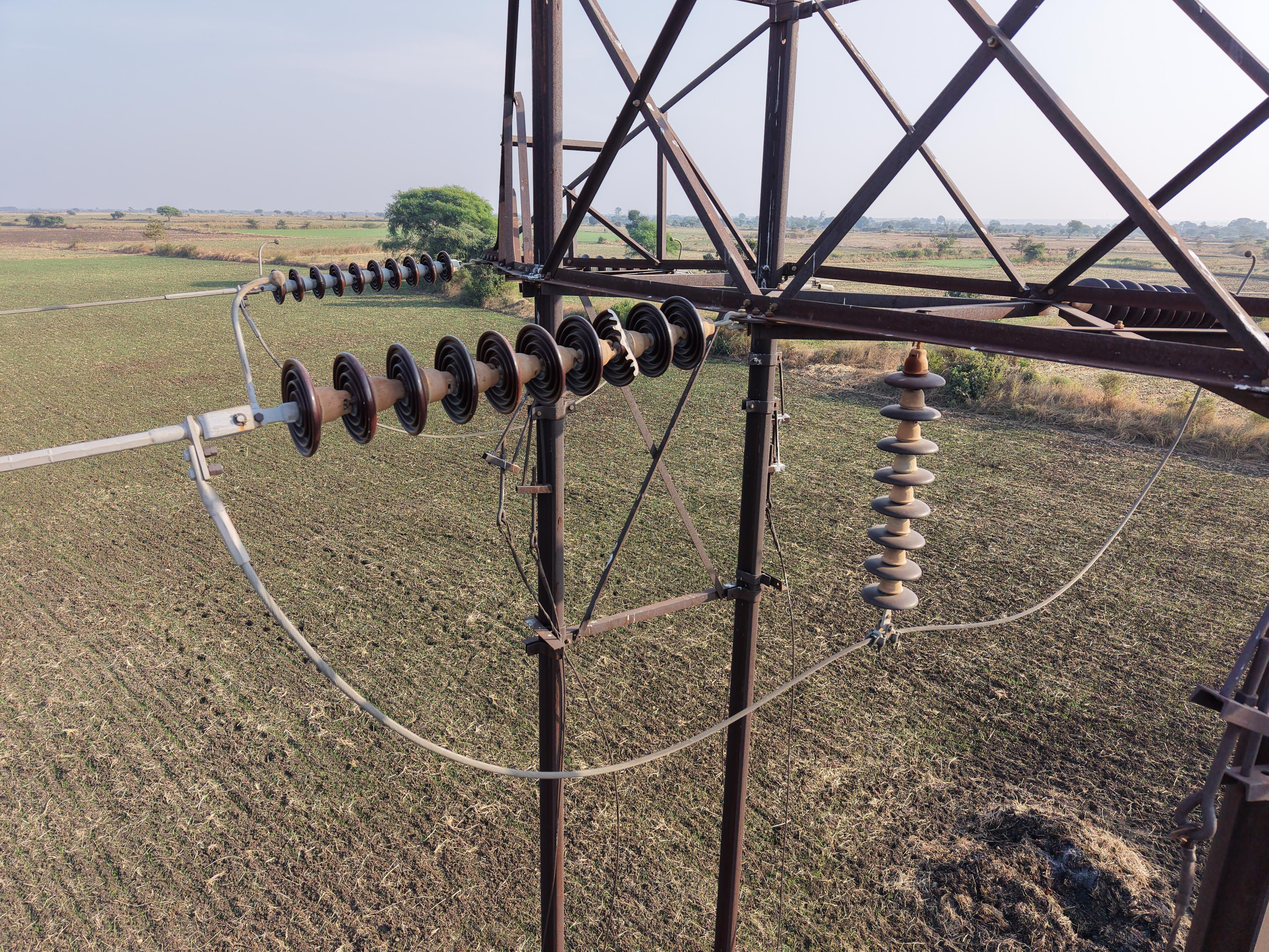broken_insulator: (593, 304, 646, 387)
